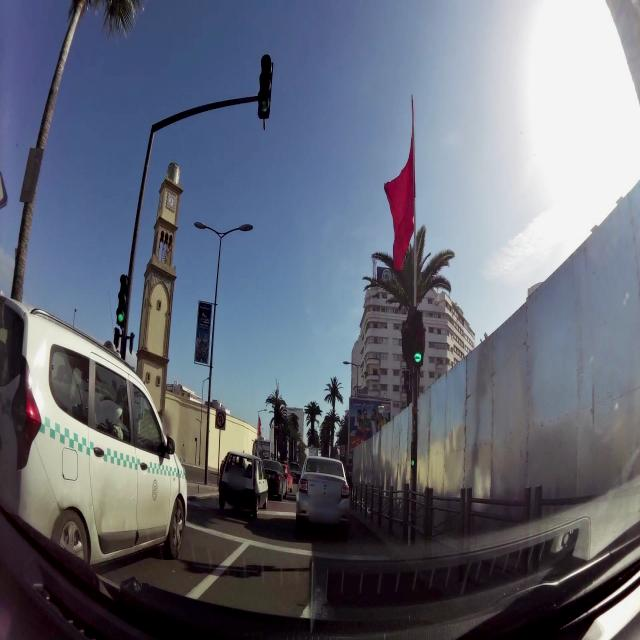car: (0, 112, 189, 581), (0, 286, 189, 578), (295, 455, 351, 536), (218, 450, 269, 518), (262, 460, 286, 501), (280, 462, 294, 497)
